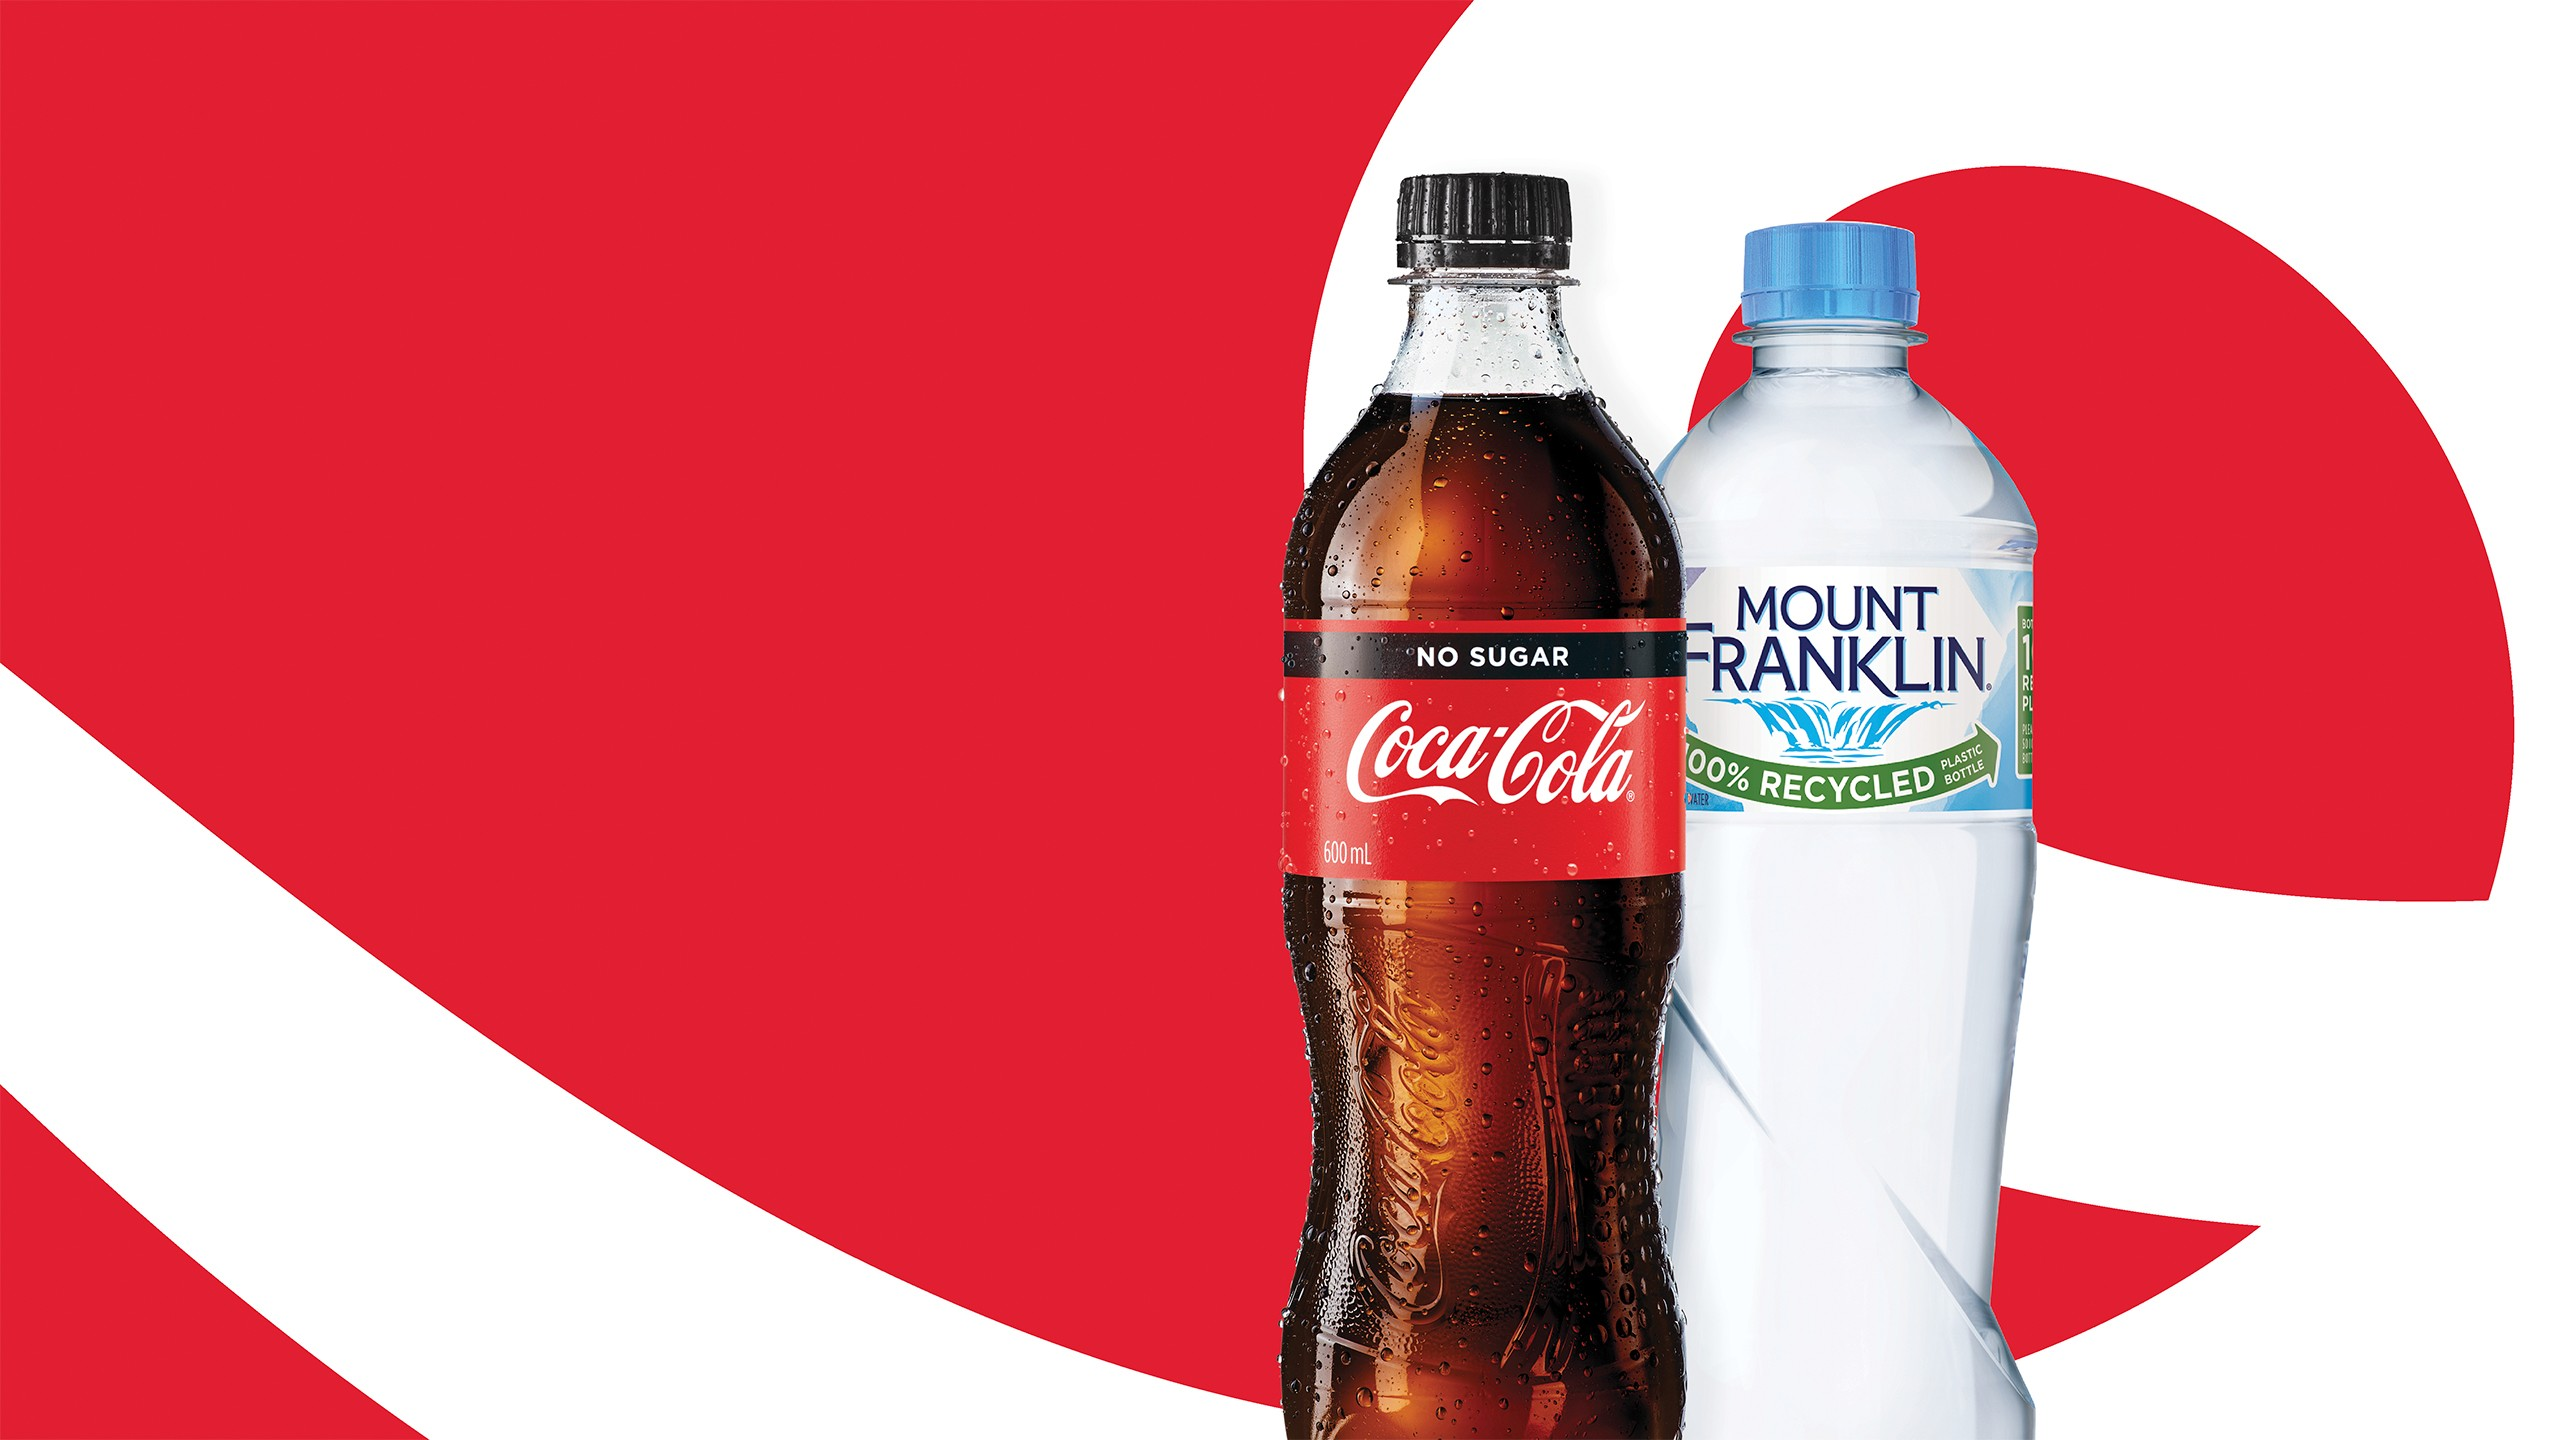Coca-Cola: (1243, 178, 1677, 1440)
